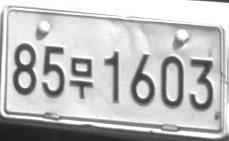0: (160, 55, 184, 108)
1: (101, 51, 128, 103)
3: (188, 58, 214, 111)
5: (41, 45, 65, 98)
6: (129, 54, 156, 106)
8: (12, 42, 37, 95)
무: (69, 56, 93, 99)
